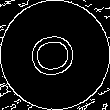O_E: (25, 28, 85, 82)
